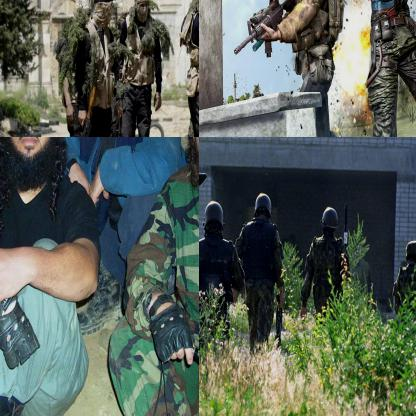rifle: (232, 0, 299, 59), (64, 80, 103, 136)
